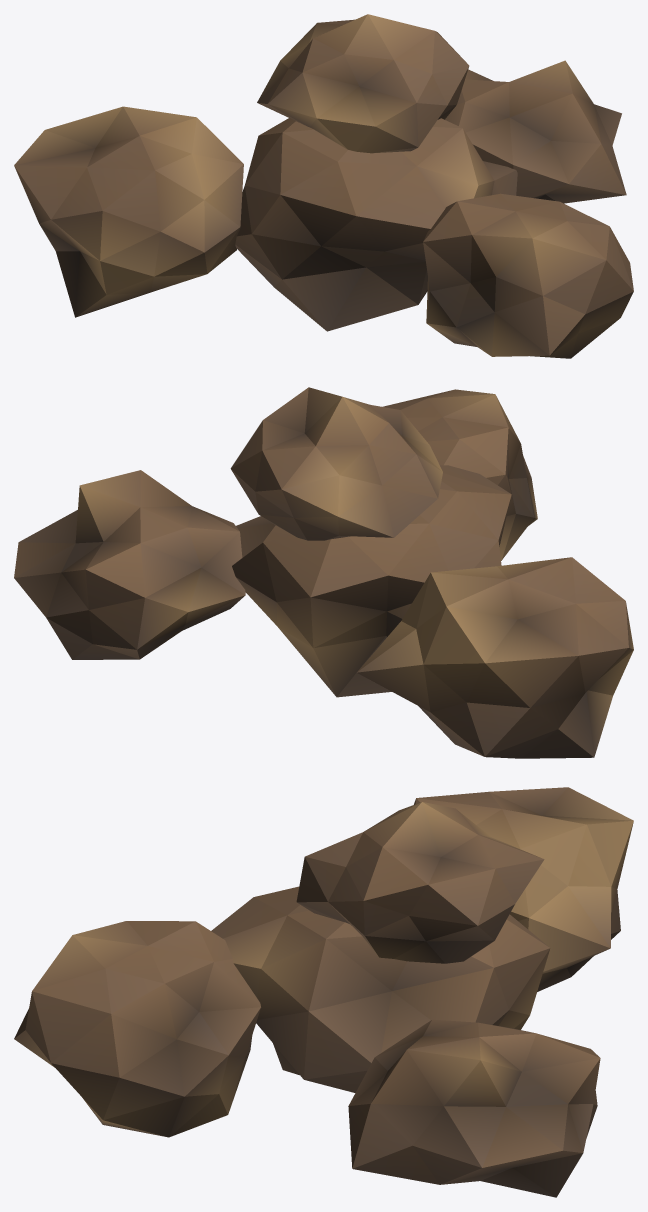
The model's file is drop_iron_ore_a.glb.
The picture shows the model from 3 angles, top to bottom: view 1: azimuth 30°, elevation 25°; view 2: azimuth 150°, elevation 25°; view 3: azimuth 270°, elevation 25°; orthographic projection. The views are drawn at different scales.
Parts seen in each view (by area): view 1: drop_iron_ore_a; view 2: drop_iron_ore_a; view 3: drop_iron_ore_a.
Boxes of the visible parts, bbox=[...] form: drop_iron_ore_a: bbox=[14, 14, 633, 358]; drop_iron_ore_a: bbox=[14, 387, 633, 758]; drop_iron_ore_a: bbox=[14, 787, 633, 1197].
Size of the model in its own units: 0.3282 by 0.1433 by 0.2713.
